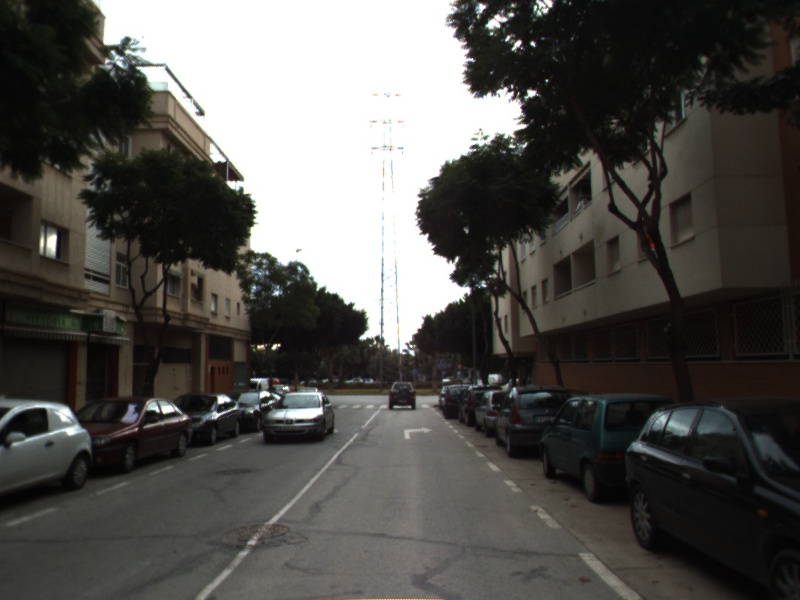RIGHT: (402, 425, 435, 441)
